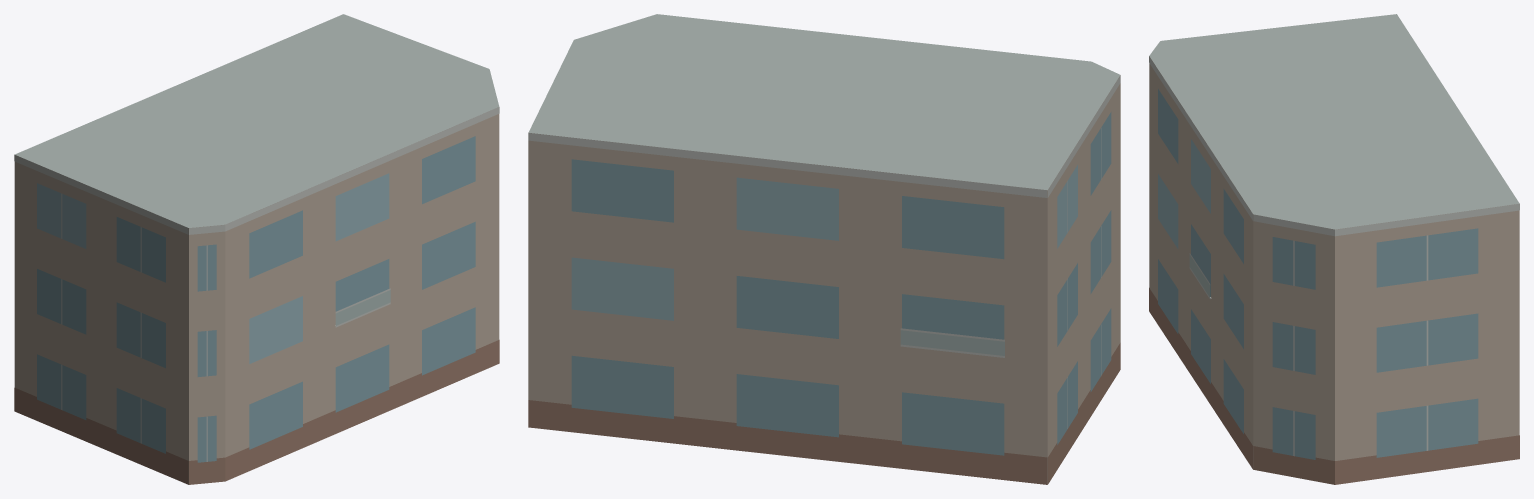
Rendered from survey-upis-32605795.glb.
3 views of the same model, side by side, from view 1: azimuth 30°, elevation 25°; view 2: azimuth 150°, elevation 25°; view 3: azimuth 270°, elevation 25° (orthographic). The views are drawn at different scales.
Parts seen in each view (by area): view 1: survey-upis-32605795.tmp; view 2: survey-upis-32605795.tmp; view 3: survey-upis-32605795.tmp.
Boxes of the visible parts, x1,y1,x2,y2 form: survey-upis-32605795.tmp: (14,14,499,484); survey-upis-32605795.tmp: (528,14,1120,484); survey-upis-32605795.tmp: (1149,14,1519,484).
Bounding box in the file's own units: 16.57 × 9.15 × 12.05.
